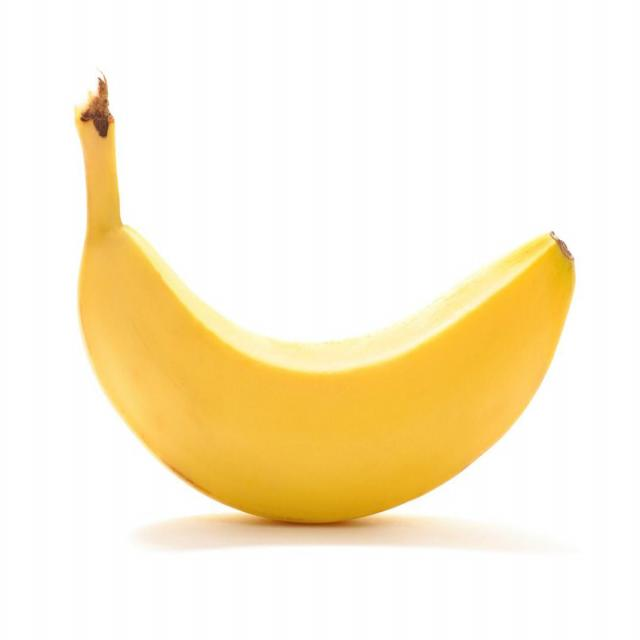banana: (73, 71, 578, 526)
